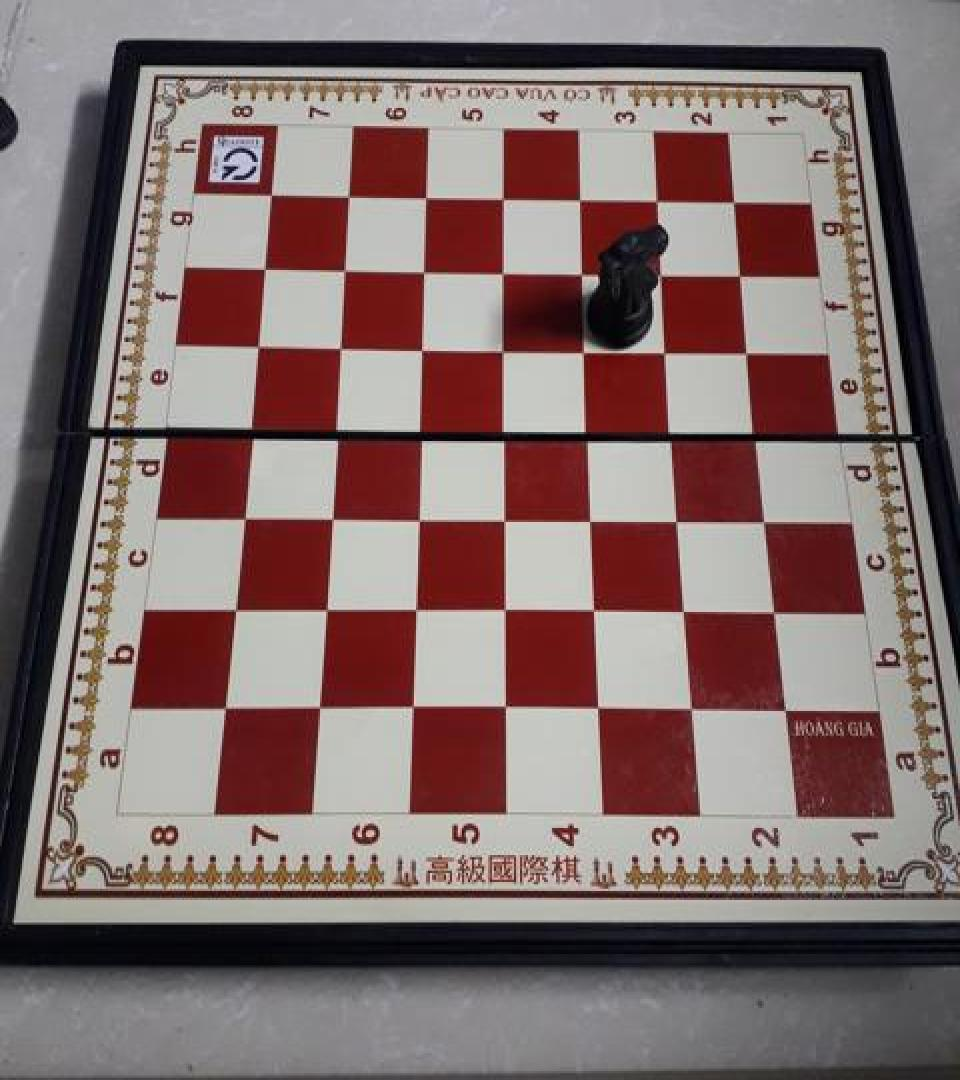xcorner: (491, 688, 523, 725), (584, 688, 616, 725), (677, 688, 709, 725), (769, 689, 801, 726), (400, 588, 432, 625), (491, 588, 523, 625), (210, 688, 242, 724), (304, 688, 336, 724), (398, 688, 430, 724), (219, 587, 251, 623), (310, 587, 342, 623), (580, 590, 612, 626), (670, 590, 702, 626), (759, 590, 791, 626), (228, 494, 260, 530), (316, 494, 348, 530), (403, 495, 435, 531), (490, 496, 522, 532), (577, 496, 609, 532), (664, 497, 696, 533), (750, 497, 782, 533), (236, 406, 268, 442), (321, 407, 353, 443), (405, 408, 437, 444), (490, 408, 522, 444), (574, 410, 606, 446), (658, 410, 690, 446), (741, 410, 773, 446), (244, 325, 276, 361), (326, 325, 358, 361), (408, 326, 440, 362), (489, 328, 521, 364), (733, 330, 765, 366), (251, 248, 283, 284), (331, 248, 363, 284), (410, 250, 442, 286), (489, 251, 521, 287), (568, 252, 600, 288), (647, 252, 679, 288), (725, 253, 757, 289), (258, 176, 290, 212), (335, 176, 367, 212), (412, 178, 444, 214), (489, 179, 521, 215), (565, 180, 597, 216), (642, 181, 674, 217), (718, 181, 750, 217), (571, 329, 603, 364), (652, 329, 684, 364)
